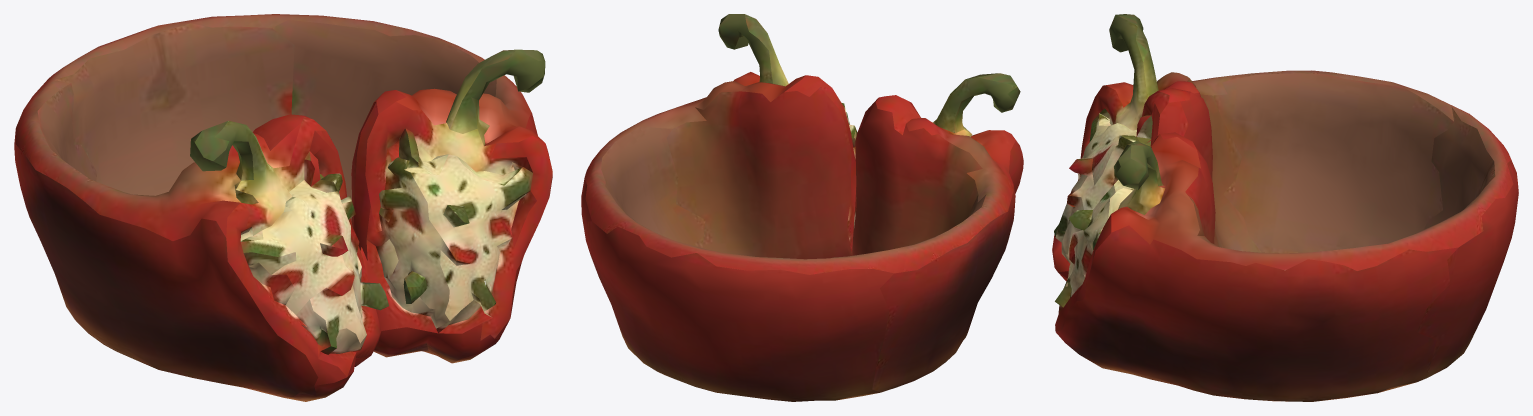
The model's file is stuffed_peppers.glb.
3 renders of one model, left to right at view 1: azimuth 30°, elevation 25°; view 2: azimuth 150°, elevation 25°; view 3: azimuth 270°, elevation 25°, orthographic. The views are drawn at different scales.
Visible parts, largest first — view 1: stuffed_peppers; view 2: stuffed_peppers; view 3: stuffed_peppers.
Part boxes in pixels (x1,y1,x2,y2): stuffed_peppers: (14,14,552,401); stuffed_peppers: (581,14,1023,401); stuffed_peppers: (1052,14,1518,401).
Size of the model in its own units: 0.9951 by 0.5841 by 1.
1 material, 1 textured.
